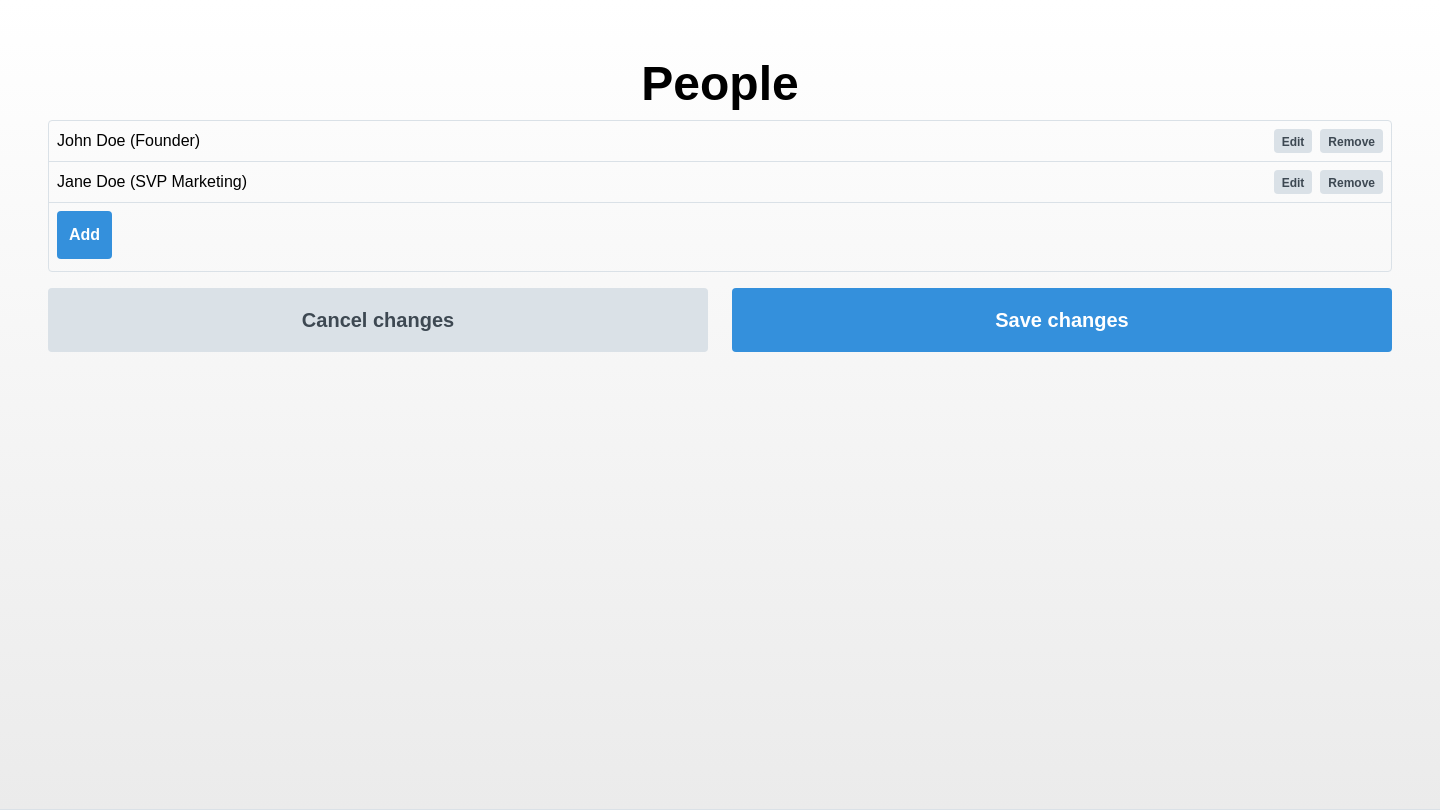
Test: PeopleEditor.vue › removes the person from the list when the remove button is clicked
The image size is (1440, 810).
What coordinates should you click on to do the following:
click the button with class "del" in the row of "Jane Doe (SVP Marketing)"
I would click on:
 (1352, 182)
Its box is [1320,170,1383,194].
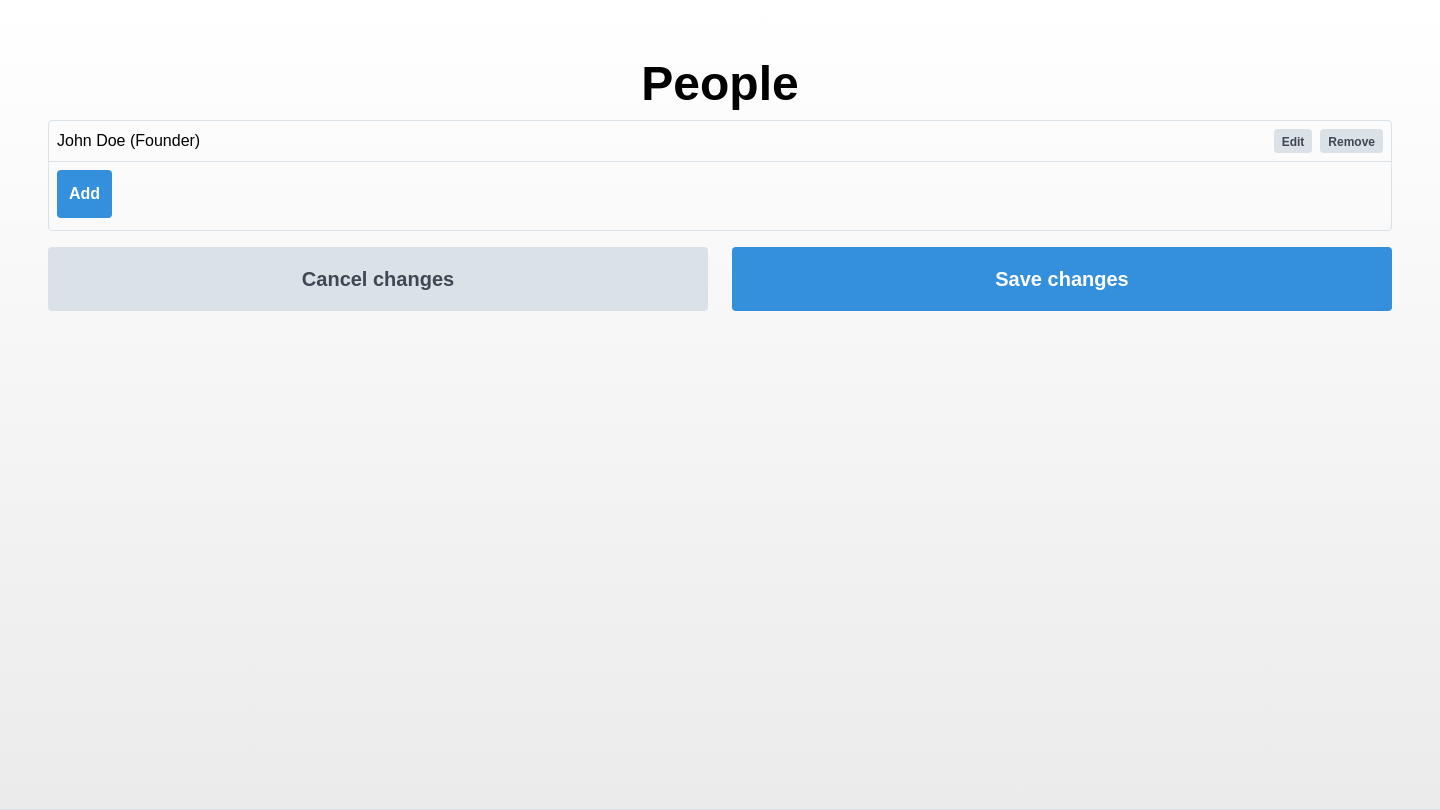
Expected: the text "John Doe" is shown, [57,132,200,149]
Expected: the text "Jane Doe" is gone
